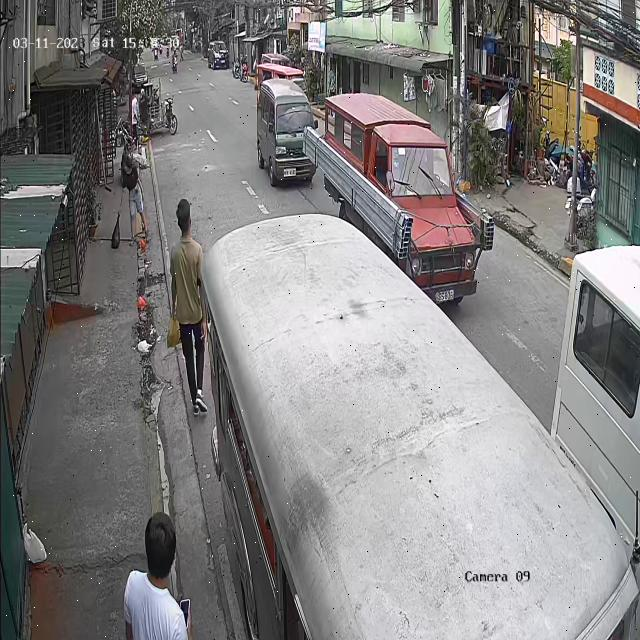garbage_dumping: (166, 308, 182, 356), (109, 209, 123, 251)
